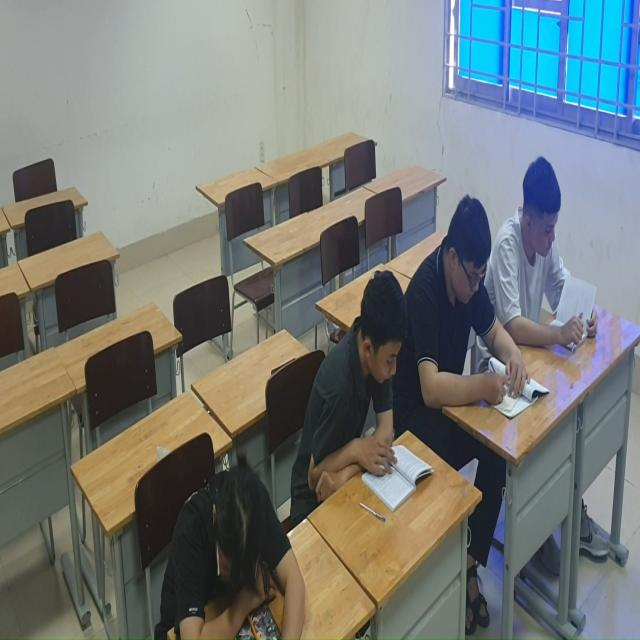read: (311, 274, 435, 518), (417, 184, 529, 431), (497, 153, 601, 363)
sleep: (138, 455, 310, 640)
